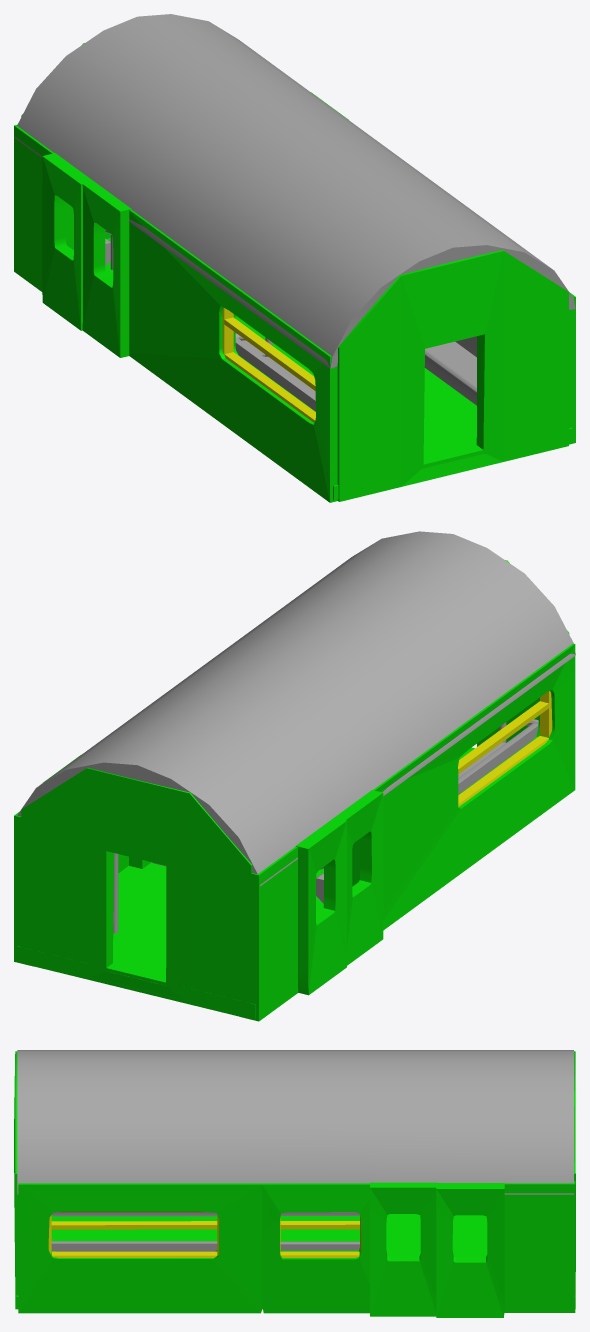
The model's file is MOD_FullCoupe_Fix_v4.fbx.
3 renders of one model, top to bottom at view 1: azimuth 30°, elevation 25°; view 2: azimuth 150°, elevation 25°; view 3: azimuth 270°, elevation 25°, orthographic. The views are drawn at different scales.
Parts seen in each view (by area): view 1: Muren, Dak, Bankjes; view 2: Muren, Dak, Bankjes; view 3: Dak, Muren, Bankjes.
Part boxes in pixels (x1,y1,x2,y2): Muren: (14, 43, 575, 502); Dak: (14, 14, 575, 368); Bankjes: (105, 238, 476, 411); Muren: (14, 560, 575, 1021); Dak: (17, 531, 575, 886); Bankjes: (113, 723, 538, 922); Dak: (17, 1050, 574, 1194); Muren: (14, 1051, 575, 1317); Bankjes: (51, 1212, 359, 1251).
Bounding box in the file's own units: 618 × 499 × 1278.
